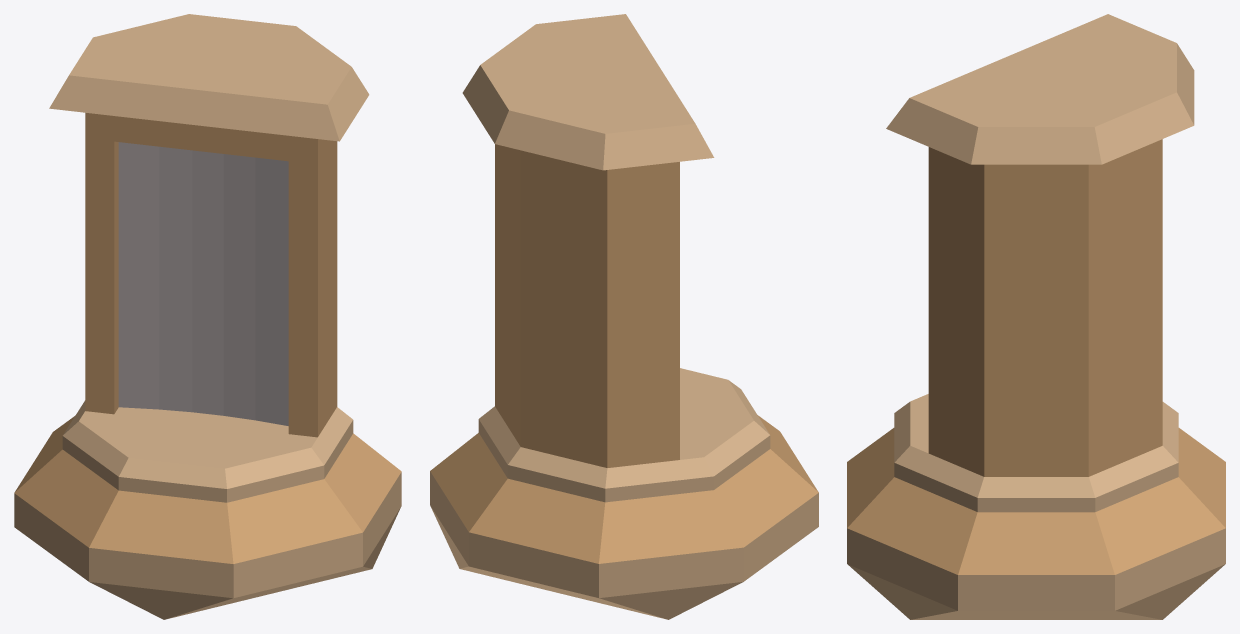
The model's file is Mirror_2.glb.
3 renders of one model, left to right at view 1: azimuth 30°, elevation 25°; view 2: azimuth 150°, elevation 25°; view 3: azimuth 270°, elevation 25°, orthographic. The views are drawn at different scales.
Visible parts, largest first — view 1: mergedBlocks(Clone); view 2: mergedBlocks(Clone); view 3: mergedBlocks(Clone).
Boxes of the visible parts, x1,y1,x2,y2 form: mergedBlocks(Clone): [14, 14, 401, 619]; mergedBlocks(Clone): [430, 14, 818, 619]; mergedBlocks(Clone): [847, 14, 1225, 619].
Size of the model in its own units: 1.8 by 2.62 by 1.8.
